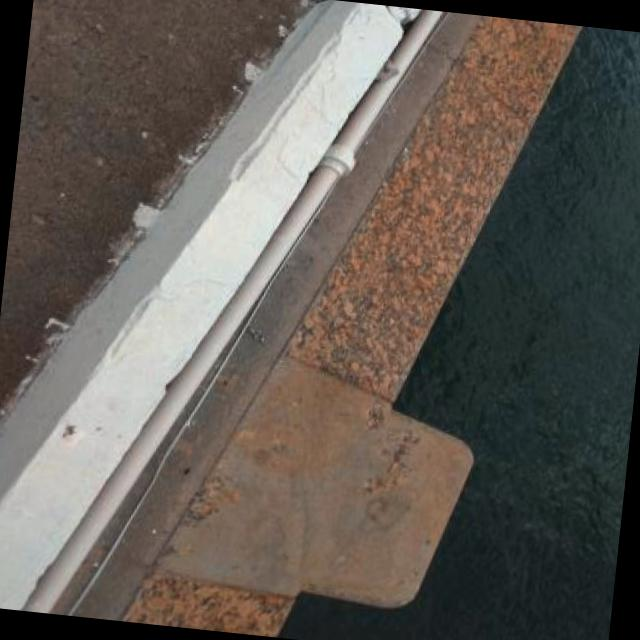gas: (21, 9, 444, 613)
